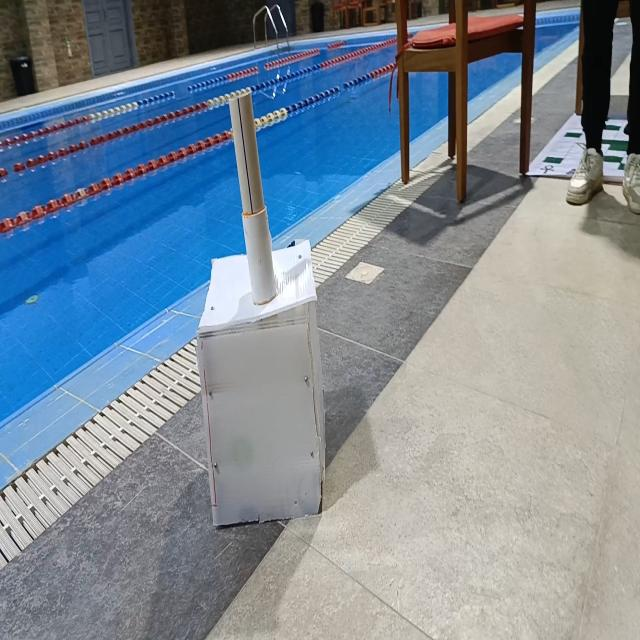Cube: (195, 238, 326, 528)
